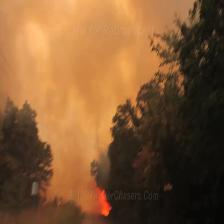fire: (85, 174, 130, 224)
smoke: (2, 3, 224, 149)
